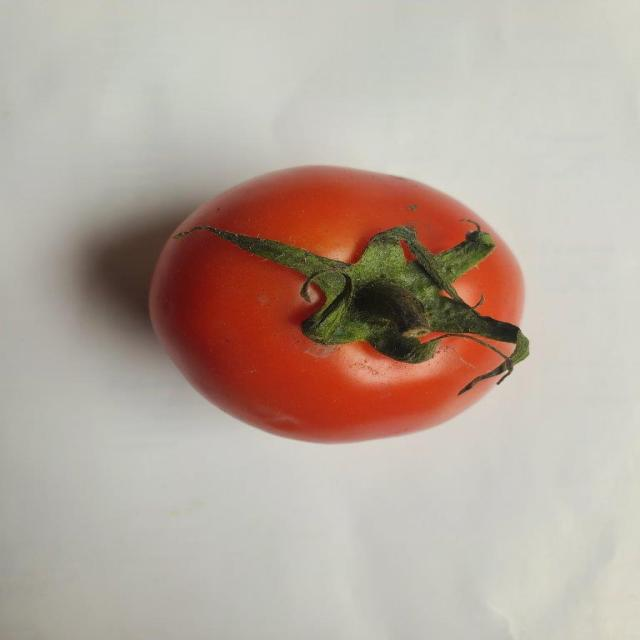Tomato: (153, 167, 533, 450)
